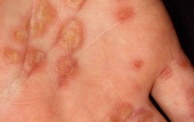SJS-TEN: (0, 0, 100, 96), (152, 49, 194, 88), (101, 97, 158, 121), (110, 0, 139, 29), (125, 52, 148, 75)
